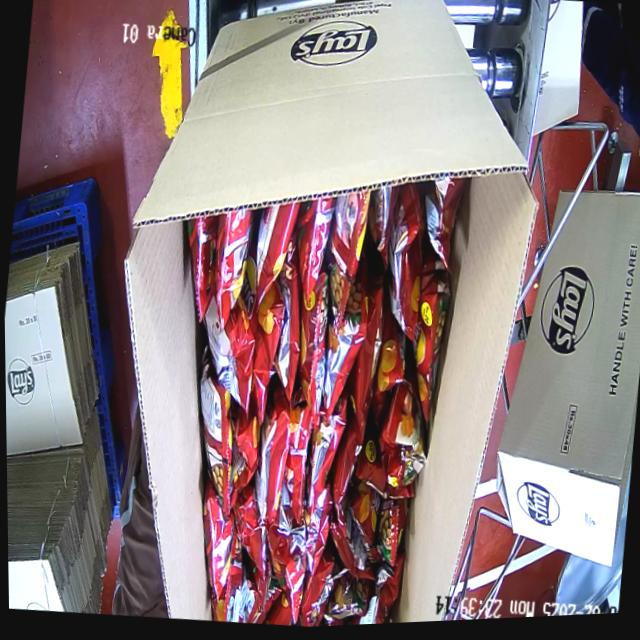MASALA: (181, 138, 471, 632)
